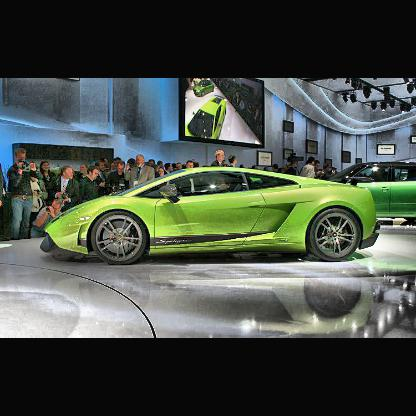Lamborghini Gallardo LP 570-4 Superleggera 2012: (41, 166, 384, 267)
